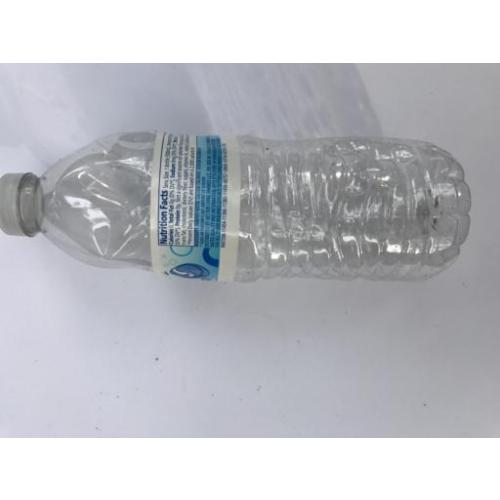plastic: (0, 134, 471, 283)
